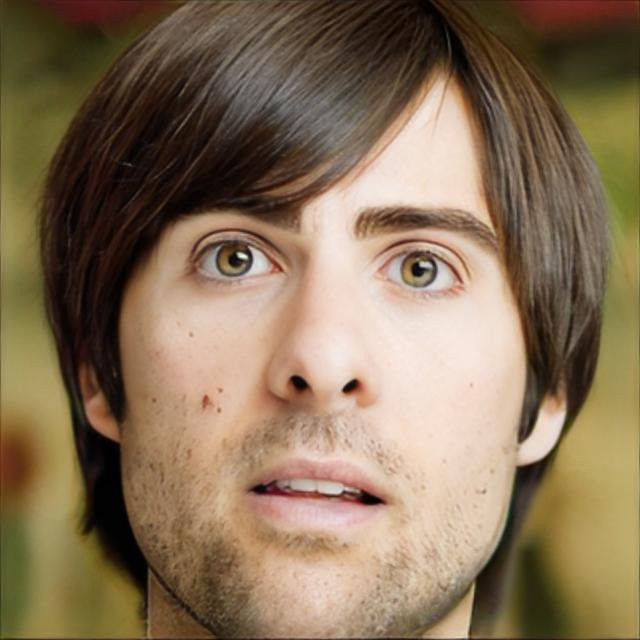surprise: (113, 50, 530, 640)
